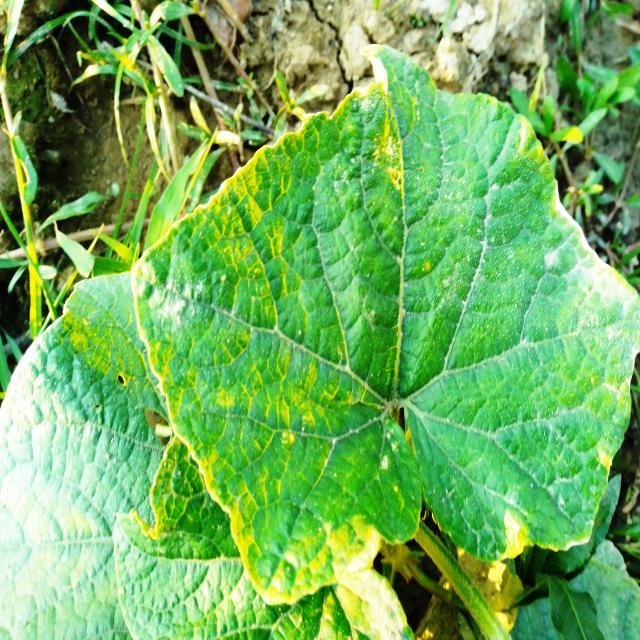Fresh-Leaf: (126, 44, 640, 608)
